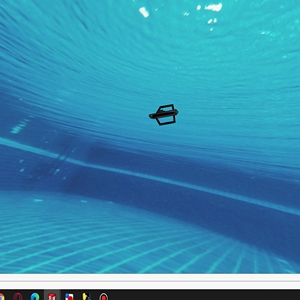submarine: (151, 103, 182, 127)
